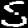S: (0, 0, 28, 28)
